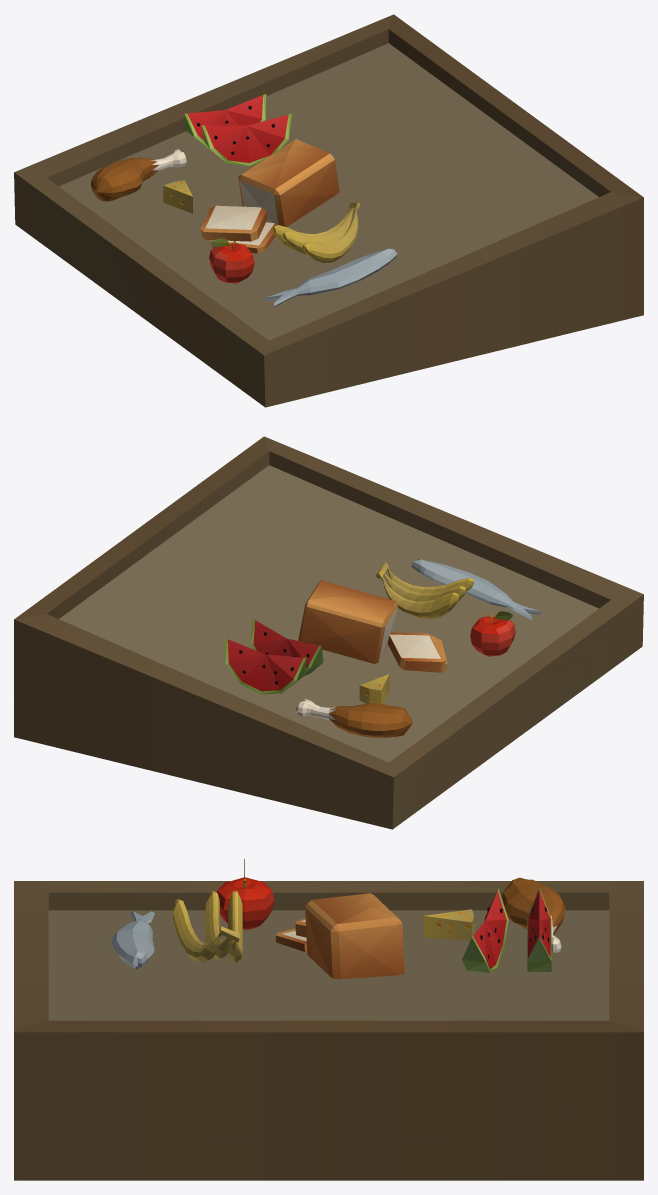
The model's file is Crate_Food_4.fbx.
3 renders of one model, top to bottom at view 1: azimuth 30°, elevation 25°; view 2: azimuth 150°, elevation 25°; view 3: azimuth 270°, elevation 25°, orthographic. The views are drawn at different scales.
Visible parts, largest first — view 1: polySurface9657; view 2: polySurface9657; view 3: polySurface9657.
Boxes of the visible parts, x1,y1,x2,y2 form: polySurface9657: (14, 14, 643, 407); polySurface9657: (14, 436, 643, 829); polySurface9657: (14, 859, 643, 1180).
Size of the model in its own units: 186 by 55 by 212.
